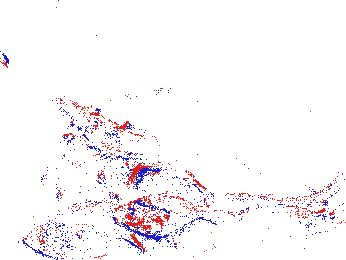X-ray fish: (23, 206, 137, 259), (113, 193, 223, 240)
glassfish: (231, 154, 346, 208)
siberian prawn: (62, 101, 209, 197), (217, 197, 343, 246)
